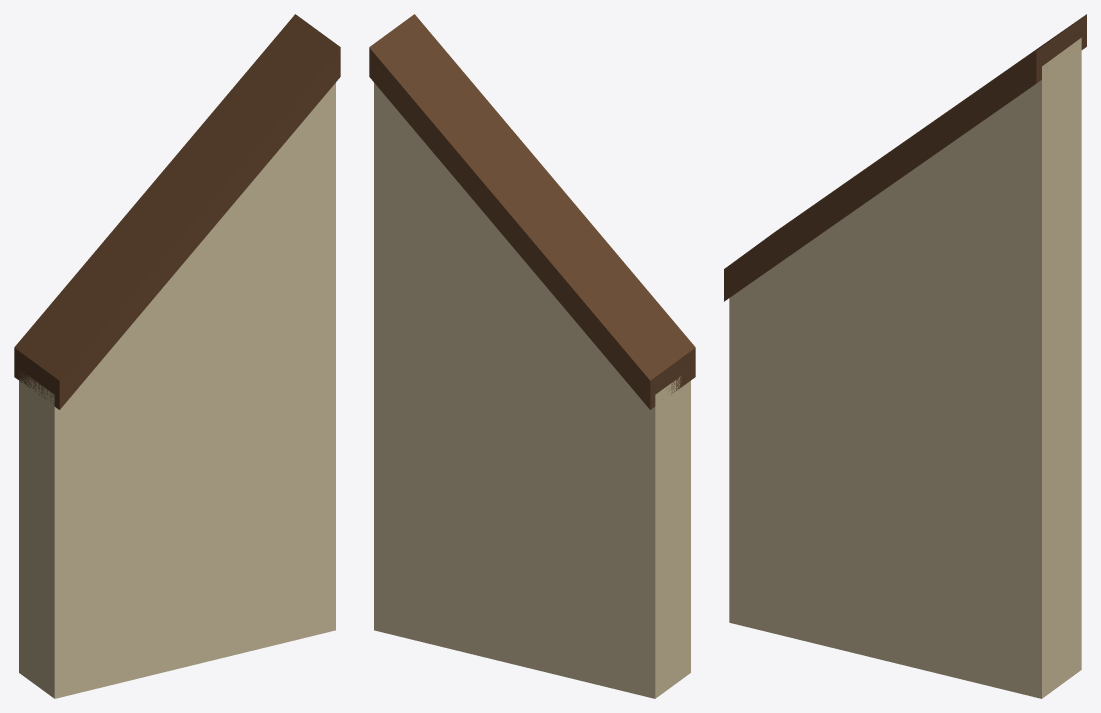
The model's file is Gable1.fbx.
3 renders of one model, left to right at view 1: azimuth 30°, elevation 25°; view 2: azimuth 150°, elevation 25°; view 3: azimuth 330°, elevation 25°, orthographic. The views are drawn at different scales.
Parts seen in each view (by area): view 1: Kit_Gable1; view 2: Kit_Gable1; view 3: Kit_Gable1.
Part boxes in pixels (x1,y1,x2,y2): Kit_Gable1: (14, 14, 340, 698); Kit_Gable1: (369, 14, 695, 698); Kit_Gable1: (724, 14, 1086, 698).
Bounding box in the file's own units: 1 × 1.99 × 0.28.
